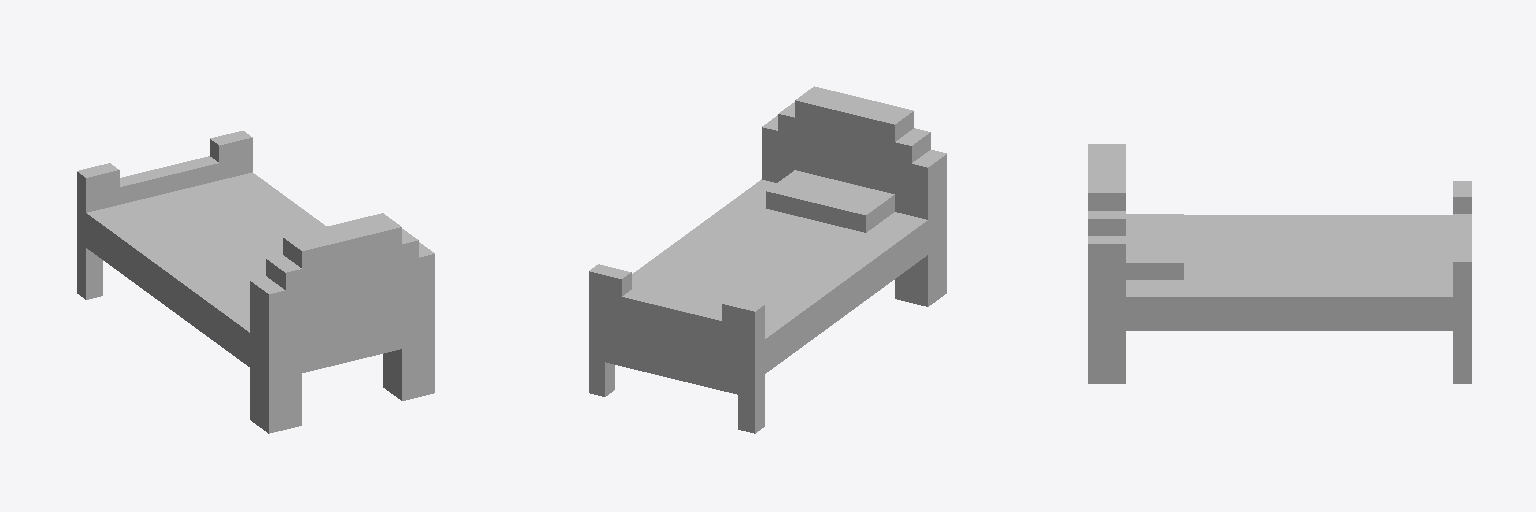
Rendered from Bed.obj.
The picture shows the model from 3 angles: view 1: azimuth 30°, elevation 25°; view 2: azimuth 150°, elevation 25°; view 3: azimuth 270°, elevation 25°; orthographic projection.
Parts seen in each view (by area): view 1: object 1; view 2: object 1; view 3: object 1.
Boxes of the visible parts, x1=… form: object 1: x1=77, y1=131, x2=434, y2=433; object 1: x1=589, y1=86, x2=946, y2=433; object 1: x1=1088, y1=144, x2=1471, y2=383.
Bounding box in the file's own units: 1 × 1 × 2.